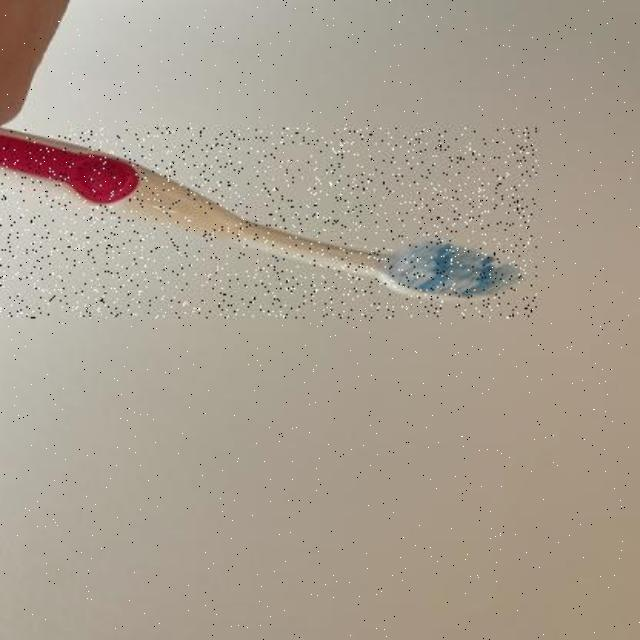toothbrush: (0, 128, 536, 318)
